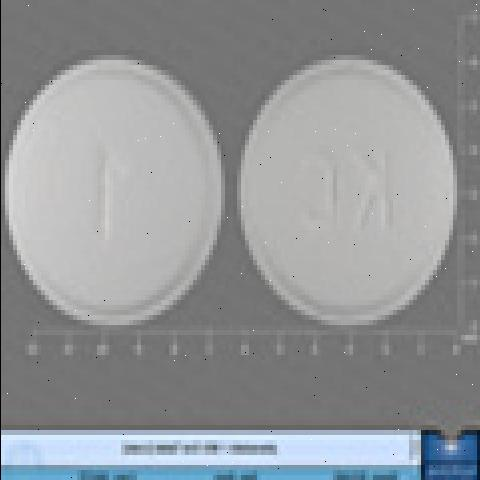Pill: (231, 37, 472, 335), (4, 38, 244, 334)
